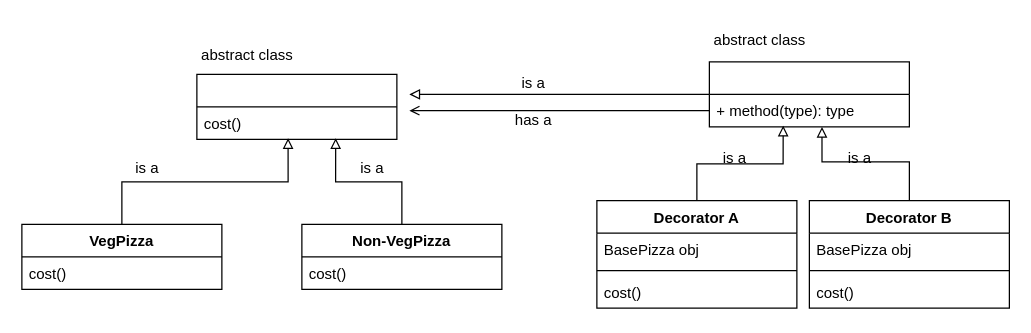
The diagram is 1031 pixels wide and 333 high, and some of its shapes have lost their labels. The shapes that lost their labels are listed below. From the top down, each one's box as (x1, y1, x2, y2) in pixels, then its label:
(196, 73, 397, 139): BasePizza
(708, 61, 909, 127): Topping Decorator
